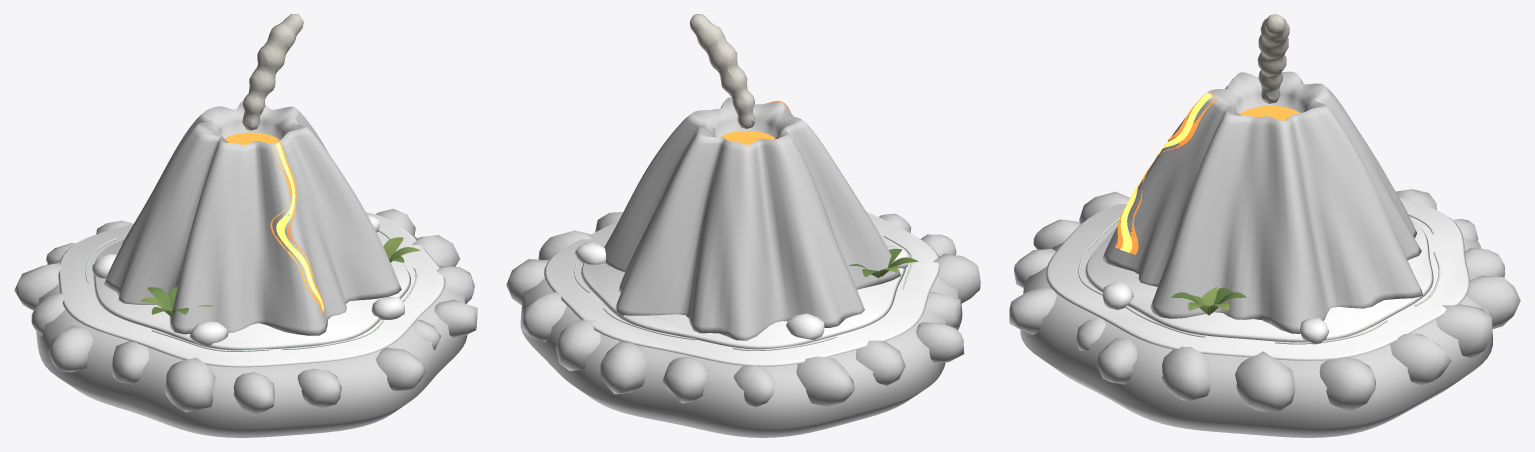
Rendered from volcano-island-v1.glb.
3 renders of one model, left to right at view 1: azimuth 30°, elevation 25°; view 2: azimuth 150°, elevation 25°; view 3: azimuth 270°, elevation 25°, orthographic. The views are drawn at different scales.
Parts seen in each view (by area): view 1: Volcano | hollow fluted mountain, Rock | irregular island foundation, Water | enclosed turquoise lagoon, Sand | island shore, Smoke | blended plume.001, Rock | shoreline boulder.011, Rock | shoreline boulder.009, Rock | shoreline boulder.014, Rock | shoreline boulder.012, Rock | shoreline boulder.013, Rock | shoreline boulder.007, Rock | shoreline boulder.010 (+10 smaller); view 2: Volcano | hollow fluted mountain, Rock | irregular island foundation, Water | enclosed turquoise lagoon, Sand | island shore, Smoke | blended plume.001, Rock | shoreline boulder.007, Rock | shoreline boulder.004, Rock | shoreline boulder.003, Rock | shoreline boulder.005, Rock | shoreline boulder.008, Rock | shoreline boulder.002, Rock | shoreline boulder.011 (+9 smaller); view 3: Volcano | hollow fluted mountain, Rock | irregular island foundation, Water | enclosed turquoise lagoon, Sand | island shore, Rock | shoreline boulder, Rock | shoreline boulder.001, Smoke | blended plume.001, Rock | shoreline boulder.017, Rock | shoreline boulder.003, Rock | shoreline boulder.002, Rock | shoreline boulder.004, Rock | shoreline boulder.014 (+11 smaller).
Part boxes in pixels (left/top/right/bottom): Volcano | hollow fluted mountain: left=104, top=100, right=401, bottom=335; Rock | irregular island foundation: left=36, top=235, right=467, bottom=437; Water | enclosed turquoise lagoon: left=58, top=212, right=445, bottom=367; Sand | island shore: left=93, top=236, right=410, bottom=350; Smoke | blended plume.001: left=242, top=14, right=303, bottom=130; Rock | shoreline boulder.011: left=165, top=357, right=215, bottom=412; Rock | shoreline boulder.009: left=48, top=325, right=93, bottom=372; Rock | shoreline boulder.014: left=375, top=347, right=426, bottom=391; Rock | shoreline boulder.012: left=233, top=372, right=274, bottom=415; Rock | shoreline boulder.013: left=297, top=368, right=341, bottom=408; Rock | shoreline boulder.007: left=14, top=263, right=61, bottom=310; Rock | shoreline boulder.010: left=112, top=341, right=149, bottom=384; Volcano | hollow fluted mountain: left=604, top=97, right=900, bottom=340; Rock | irregular island foundation: left=520, top=255, right=962, bottom=437; Water | enclosed turquoise lagoon: left=544, top=211, right=939, bottom=366; Sand | island shore: left=580, top=239, right=905, bottom=349; Smoke | blended plume.001: left=689, top=14, right=755, bottom=128; Rock | shoreline boulder.007: left=796, top=356, right=854, bottom=406; Rock | shoreline boulder.004: left=600, top=341, right=647, bottom=394; Rock | shoreline boulder.003: left=555, top=319, right=600, bottom=370; Rock | shoreline boulder.005: left=662, top=357, right=708, bottom=403; Rock | shoreline boulder.008: left=856, top=340, right=905, bottom=385; Rock | shoreline boulder.002: left=522, top=292, right=566, bottom=342; Rock | shoreline boulder.011: left=933, top=253, right=980, bottom=303; Volcano | hollow fluted mountain: left=1102, top=71, right=1422, bottom=333; Rock | irregular island foundation: left=1020, top=237, right=1493, bottom=437; Water | enclosed turquoise lagoon: left=1045, top=197, right=1469, bottom=360; Sand | island shore: left=1085, top=220, right=1433, bottom=342; Rock | shoreline boulder: left=1235, top=351, right=1295, bottom=411; Rock | shoreline boulder.001: left=1319, top=357, right=1375, bottom=411; Smoke | blended plume.001: left=1257, top=14, right=1289, bottom=103; Rock | shoreline boulder.017: left=1161, top=346, right=1210, bottom=400; Rock | shoreline boulder.003: left=1436, top=304, right=1492, bottom=358; Rock | shoreline boulder.002: left=1390, top=333, right=1451, bottom=385; Rock | shoreline boulder.004: left=1466, top=275, right=1520, bottom=328; Rock | shoreline boulder.014: left=1009, top=287, right=1056, bottom=334.
Bounding box in the file's own units: 1.72 × 1.33 × 1.7.
